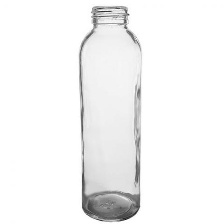bottle: (75, 3, 148, 224)
